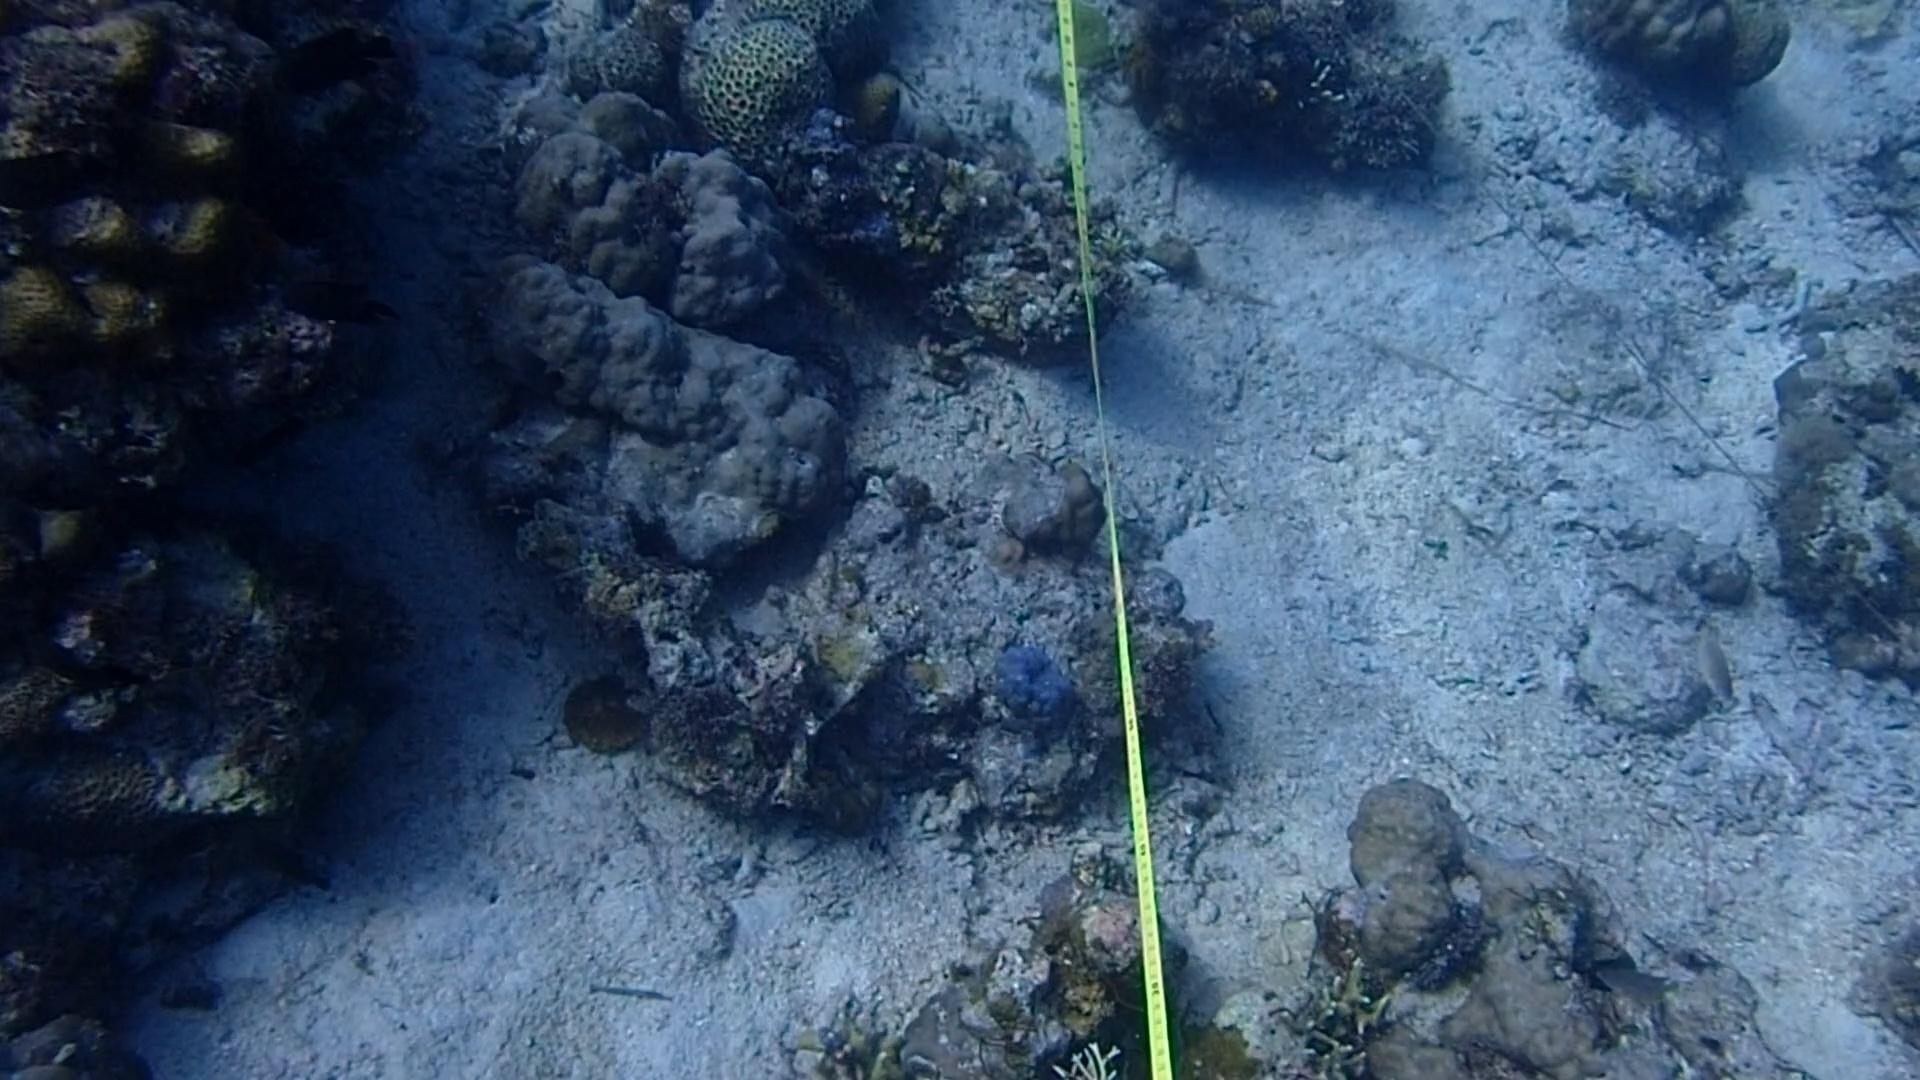Dark Fish: (248, 5, 407, 109), (3, 611, 144, 721), (228, 831, 372, 934), (265, 256, 404, 340), (0, 148, 109, 228), (485, 340, 585, 418)
Light Fish: (1688, 622, 1743, 715)
